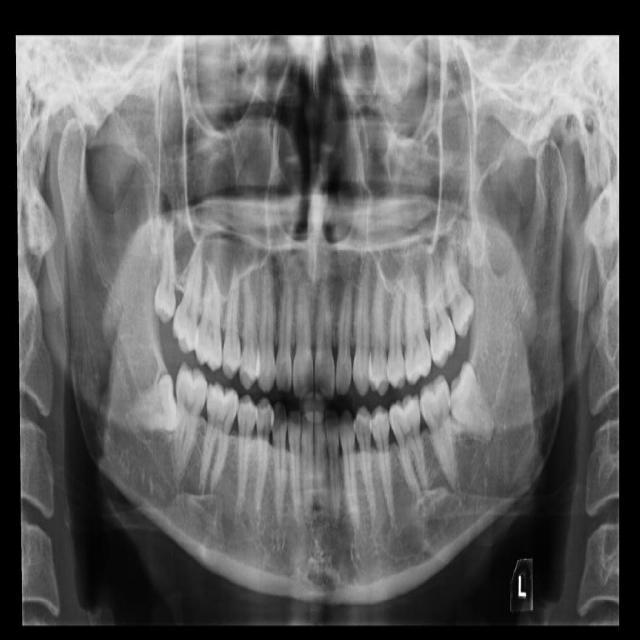3M ESPE Implant: (153, 222, 176, 326)
73: (589, 536, 603, 570)
BioHorizons Implant: (424, 247, 458, 368)
BioLife Implant: (436, 233, 480, 338)
Biomet 3i Implant: (434, 358, 505, 451)
Blue Sky Bio Implant: (417, 373, 459, 493)
Caries: (171, 234, 204, 355)
Implant: (170, 362, 210, 479)
Keystone Dental Implant: (122, 373, 182, 441)
